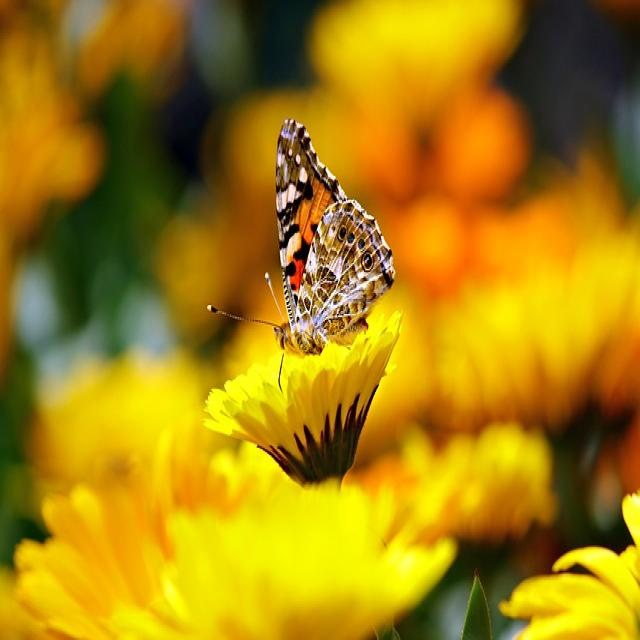butterfly: (276, 120, 395, 354)
